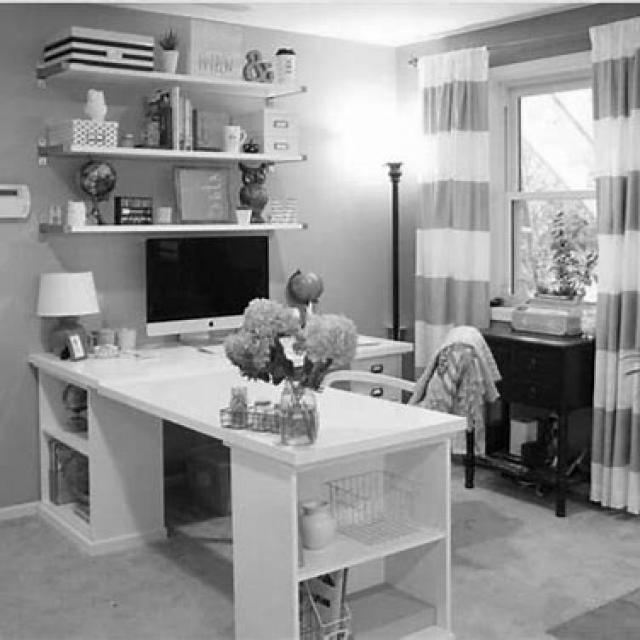table: (14, 317, 476, 517)
